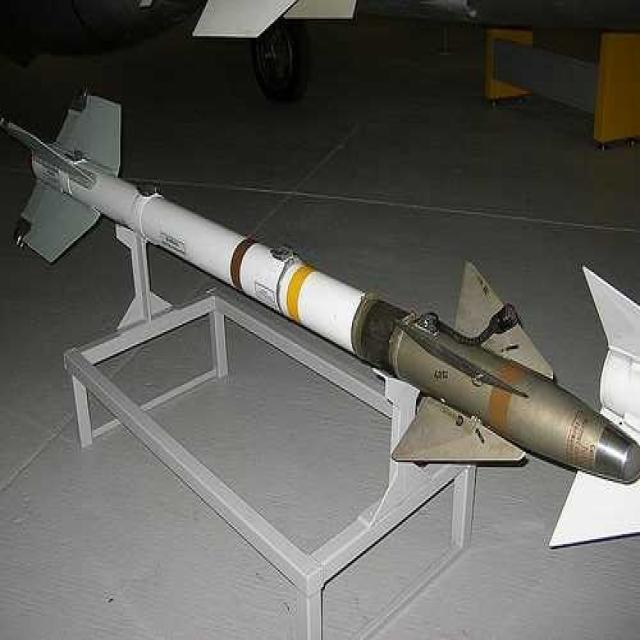missile: (1, 92, 640, 482)
